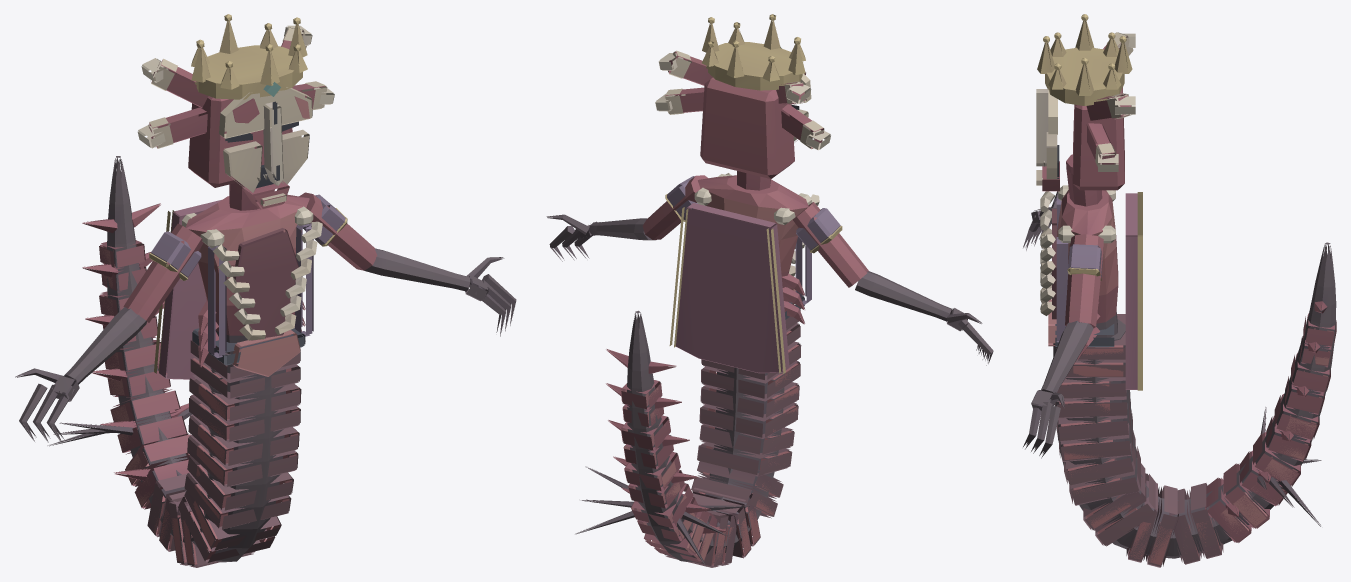
File: DredgeKing.glb
3 renders of one model, left to right at view 1: azimuth 30°, elevation 25°; view 2: azimuth 150°, elevation 25°; view 3: azimuth 270°, elevation 25°, orthographic. The views are drawn at different scales.
Visible parts, largest first — view 1: Body, Head, ArmR, ArmL; view 2: Body, Head, ArmR, ArmL; view 3: Body, Head, ArmL, ArmR.
Part boxes in pixels (left/top/right/bottom): Body: left=47, top=156, right=322, bottom=567; Head: left=137, top=14, right=334, bottom=210; ArmR: left=15, top=223, right=203, bottom=443; ArmL: left=299, top=192, right=516, bottom=336; Body: left=575, top=173, right=819, bottom=567; Head: left=655, top=14, right=830, bottom=190; ArmR: left=792, top=202, right=993, bottom=365; ArmL: left=546, top=175, right=708, bottom=261; Body: left=1040, top=185, right=1336, bottom=567; Head: left=1036, top=14, right=1135, bottom=206; ArmL: left=1023, top=234, right=1103, bottom=458; ArmR: left=1023, top=191, right=1058, bottom=250.
Bounding box in the file's own units: 6.83 × 7.36 × 4.02.
